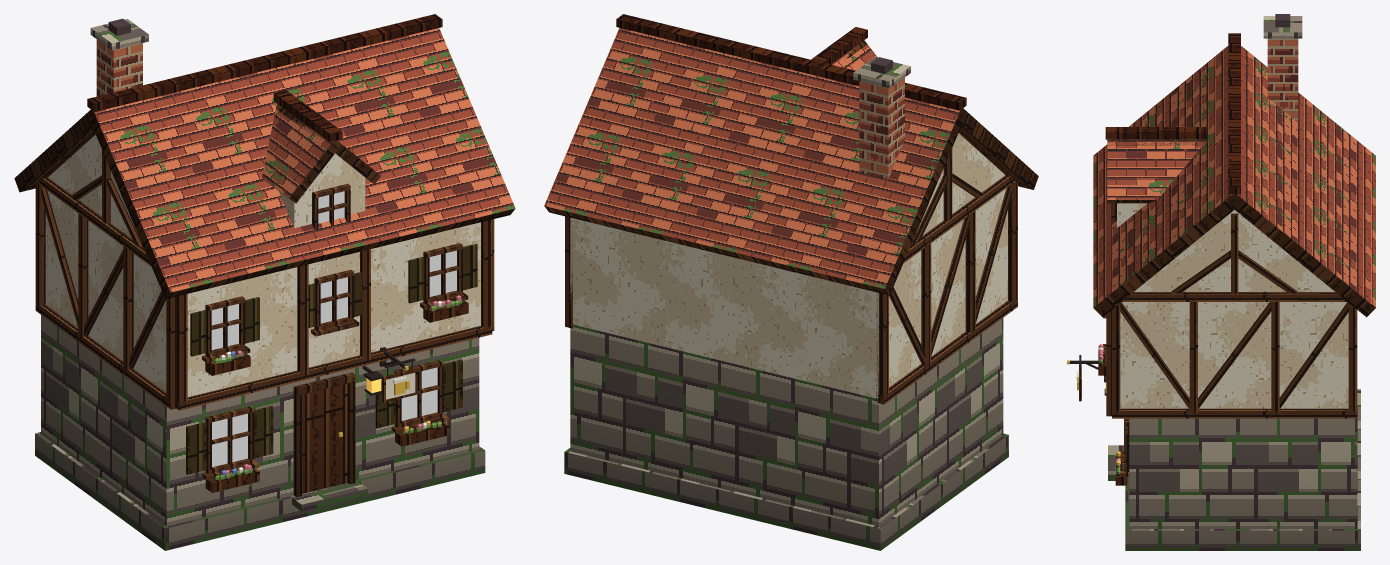
File: inn.glb
The picture shows the model from 3 angles, left to right: view 1: azimuth 30°, elevation 25°; view 2: azimuth 150°, elevation 25°; view 3: azimuth 270°, elevation 25°; orthographic projection. The views are drawn at different scales.
Parts seen in each view (by area): view 1: inn; view 2: inn; view 3: inn.
Part boxes in pixels (left/top/right/bottom): inn: left=14, top=14, right=515, bottom=550; inn: left=544, top=14, right=1038, bottom=550; inn: left=1067, top=14, right=1375, bottom=550.
Size of the model in its own units: 7.34 by 9.15 by 6.24.
Materials: 8 (5 with a texture image).
